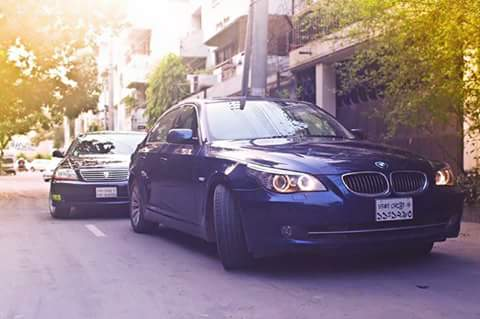registration_plate: (375, 197, 414, 222), (95, 186, 117, 198)
